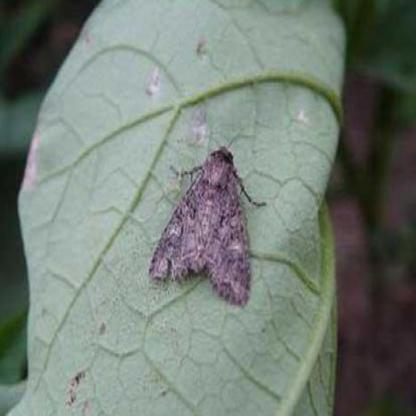armyworm: (147, 145, 264, 302)
